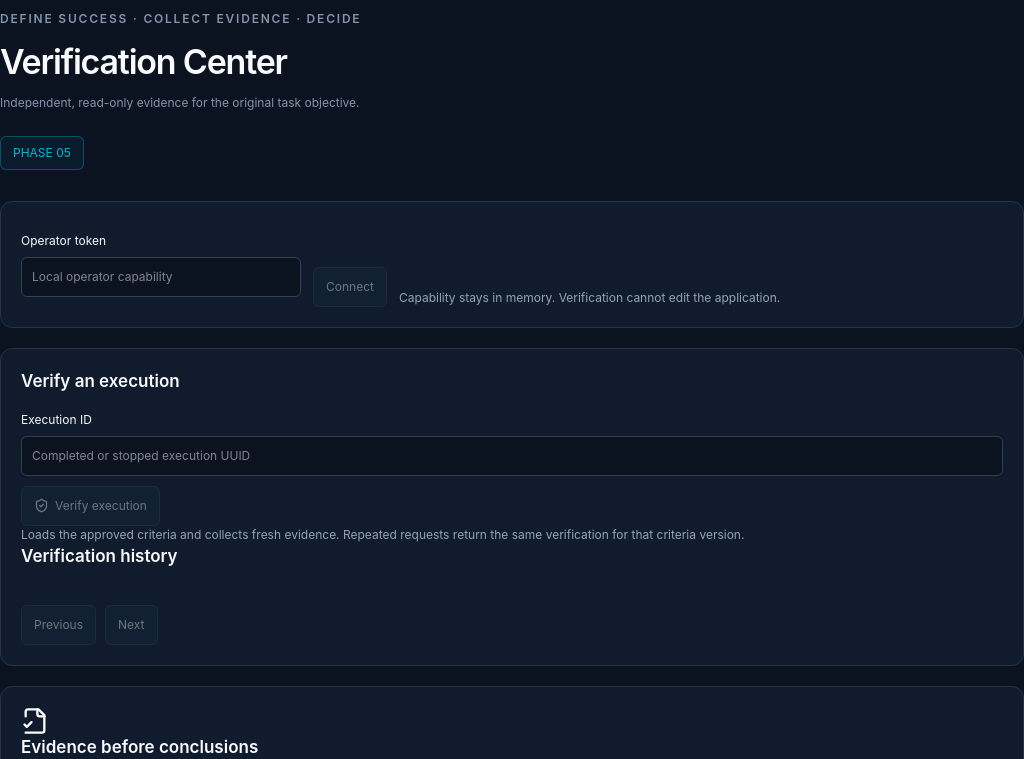
renders source/backend errors without a fabricated success
Type "test-capability" into the password field labelled "Operator token" at coordinates (161, 277), box top-left (21, 257), bottom-right (301, 297)
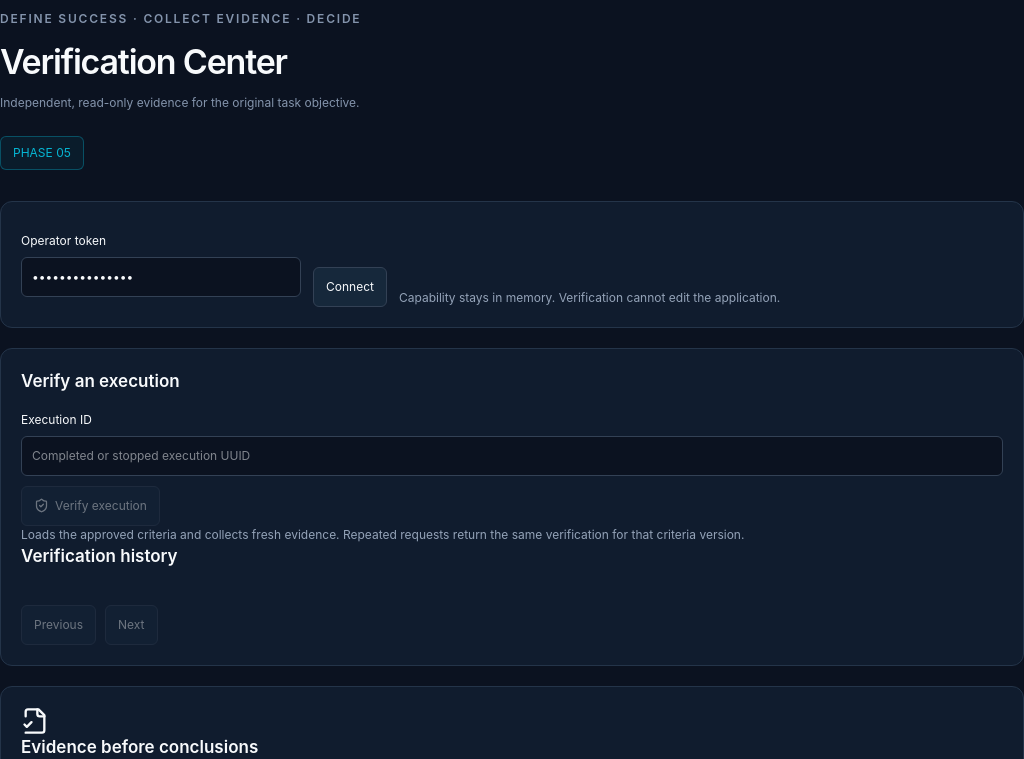
Click the button "Connect" at coordinates (350, 287), box top-left (313, 267), bottom-right (387, 307)
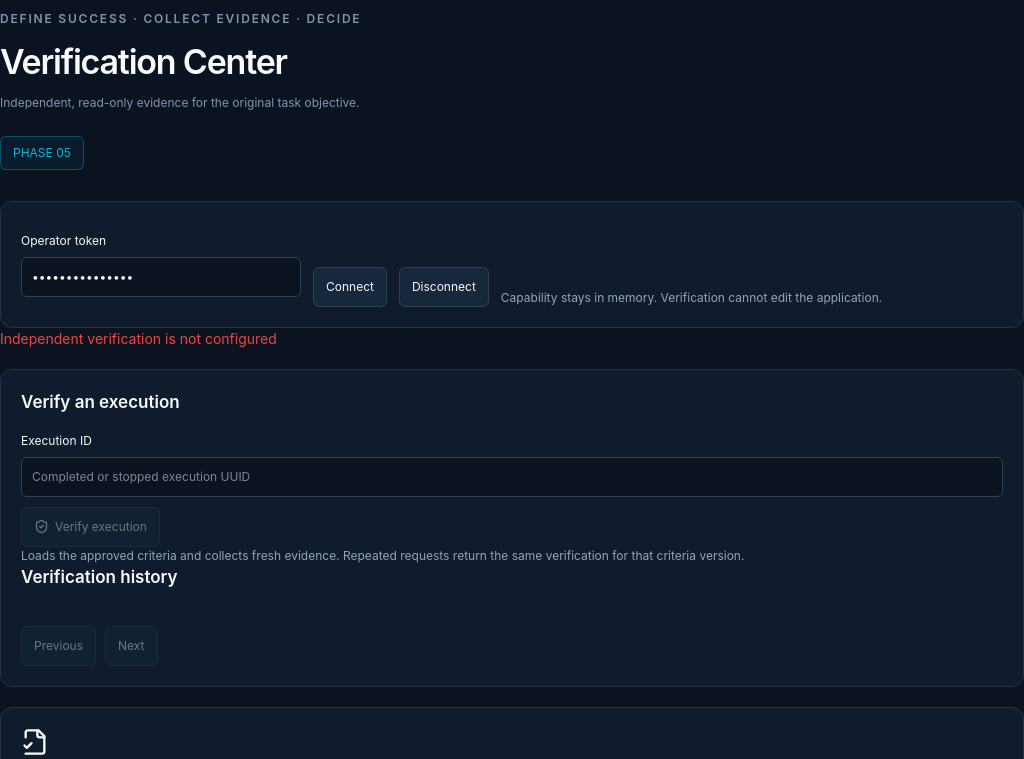
Expected: the message shows "not configured", top-left (0, 330), bottom-right (277, 347)
